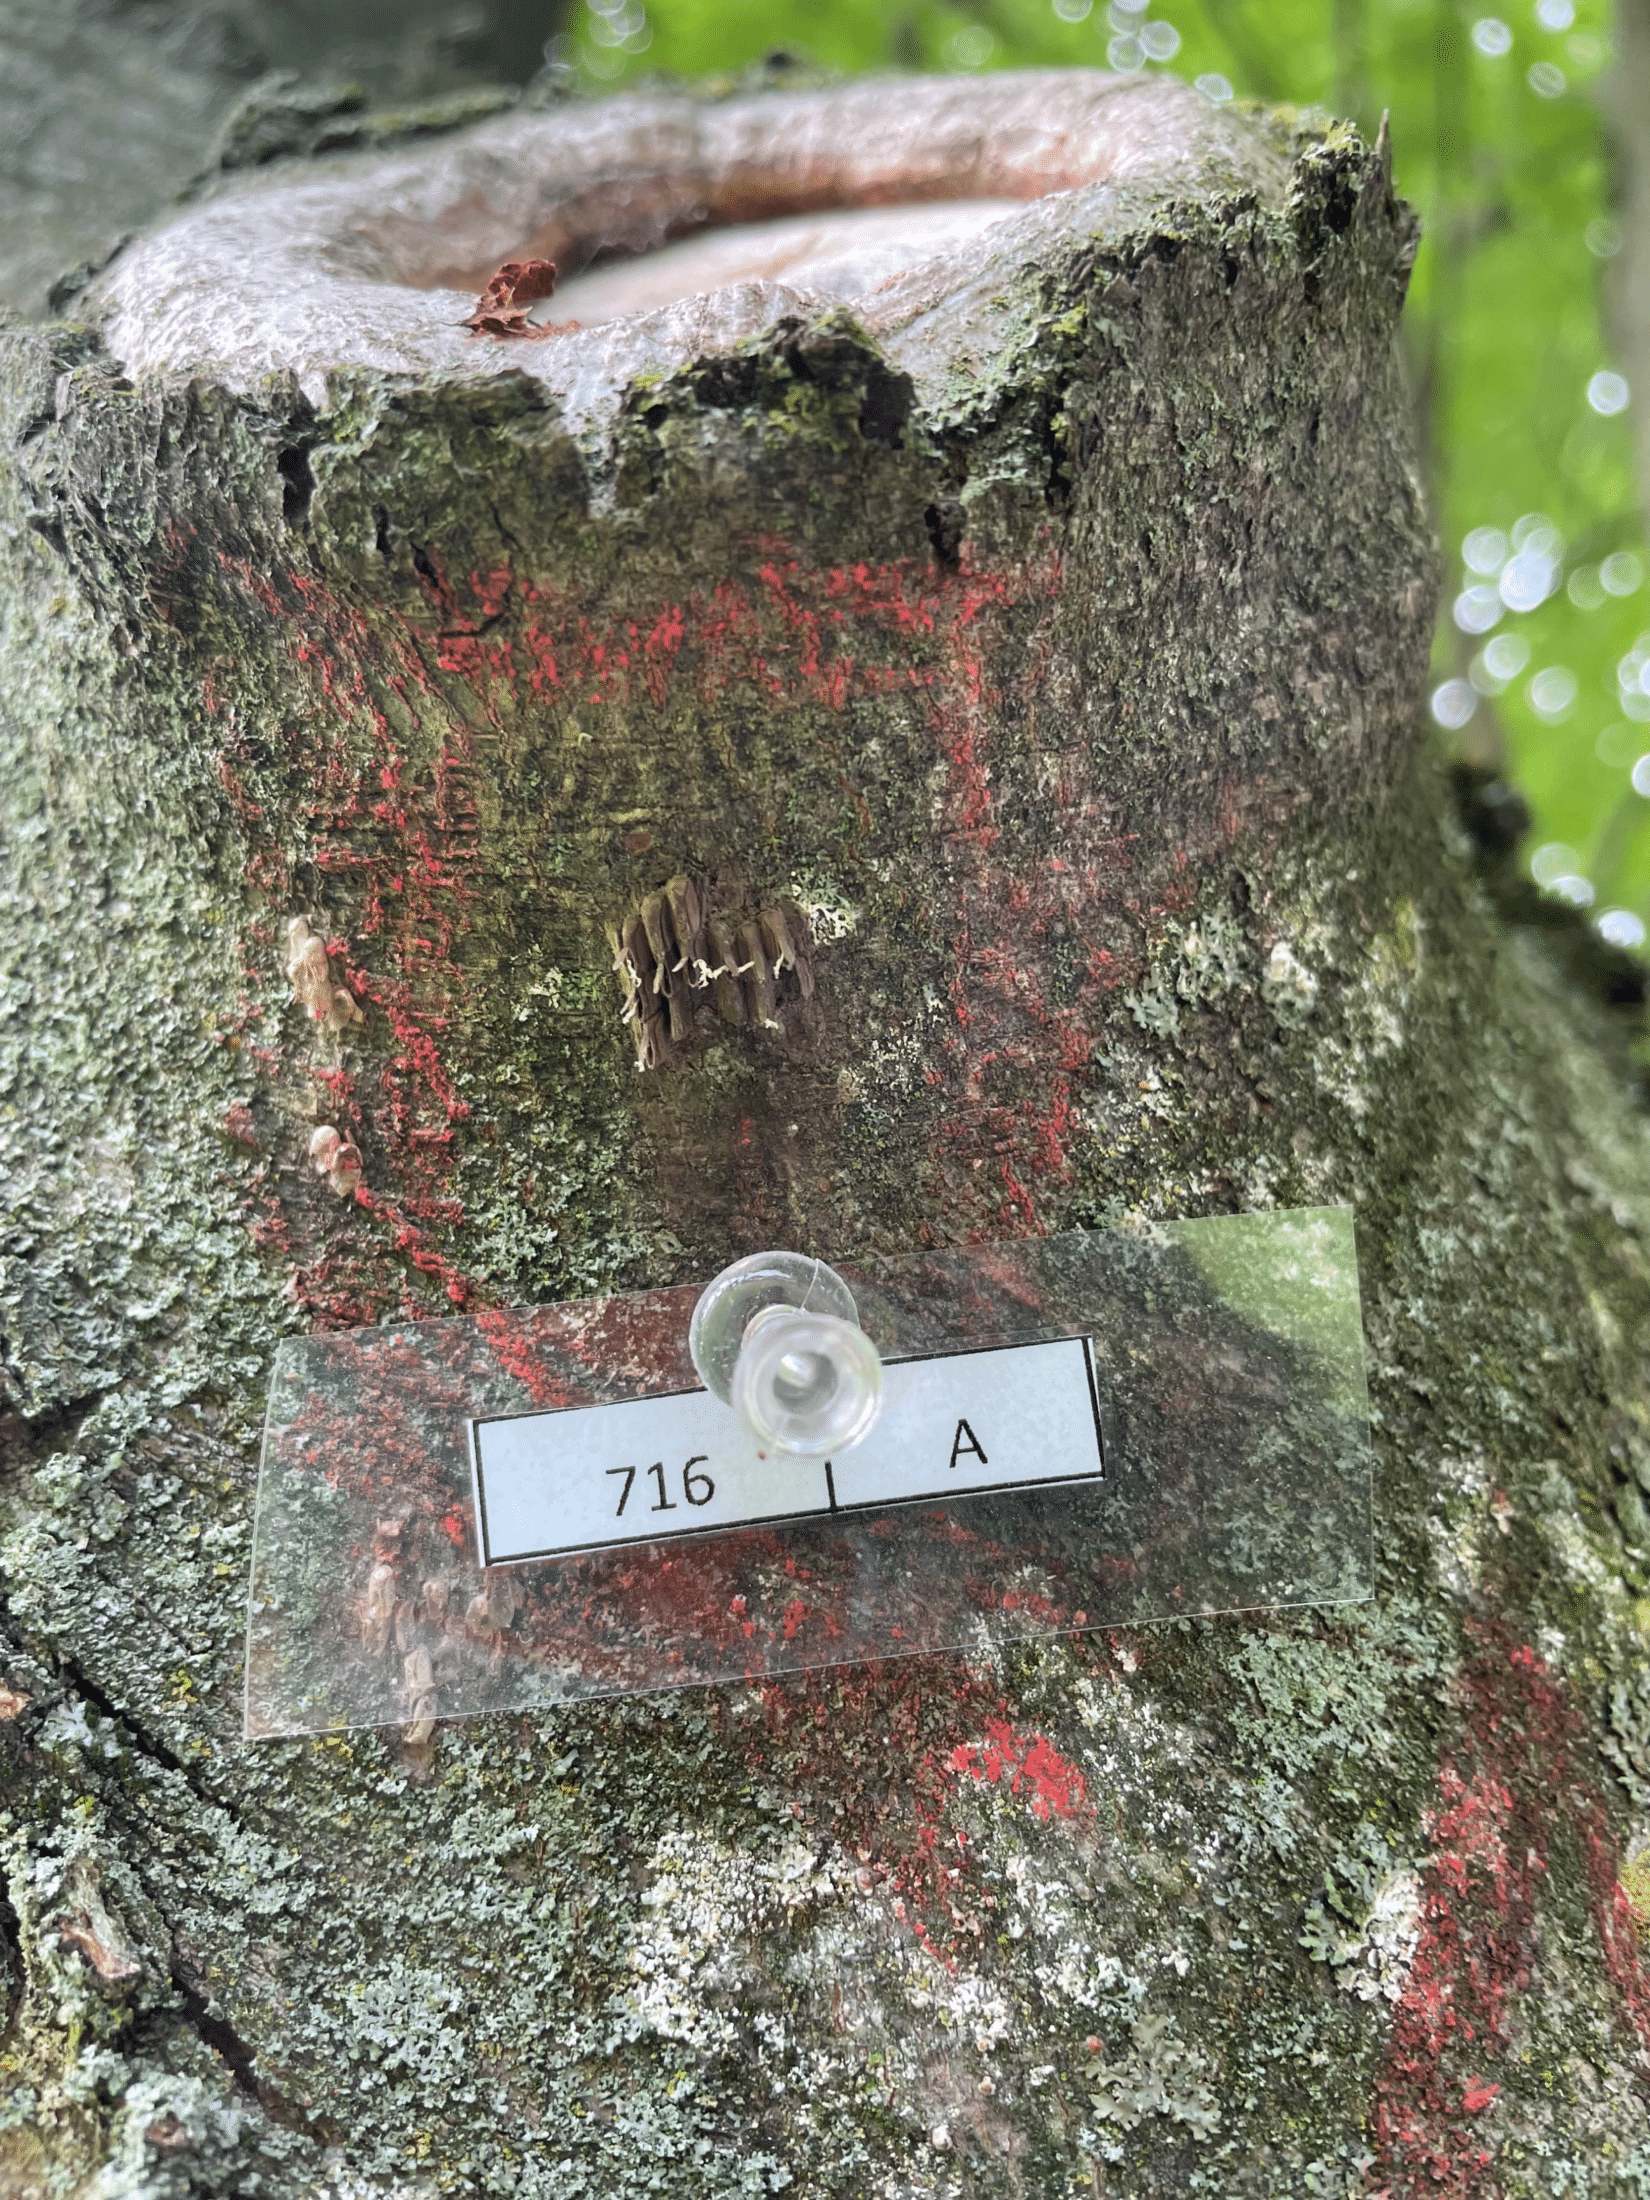egg masses: (556, 868, 879, 1041)
